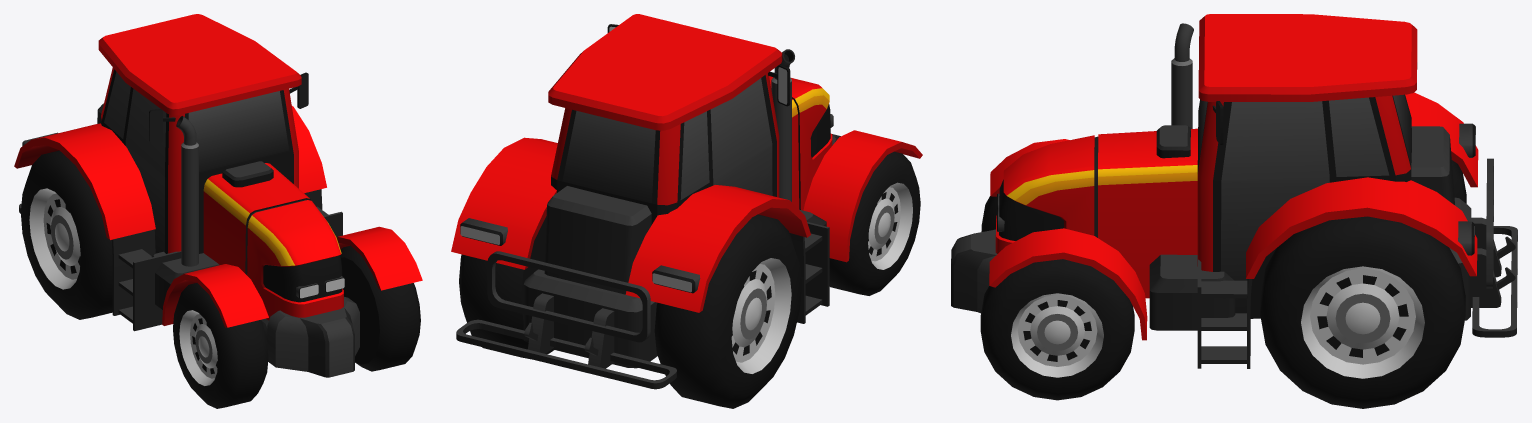
Rendered from Tractor.fbx.
The picture shows the model from 3 angles, left to right: view 1: azimuth 30°, elevation 25°; view 2: azimuth 150°, elevation 25°; view 3: azimuth 270°, elevation 25°; orthographic projection. The views are drawn at different scales.
Parts seen in each view (by area): view 1: Tractor_Body, B_R, F_R, F_L; view 2: Tractor_Body, B_R, F_R, B_L; view 3: Tractor_Body, B_L, F_L.
Part boxes in pixels (x1,y1,x2,y2): Tractor_Body: (14, 14, 422, 377); B_R: (20, 150, 112, 319); F_R: (173, 283, 268, 408); F_L: (340, 245, 420, 371); Tractor_Body: (451, 14, 922, 389); B_R: (654, 214, 801, 408); F_R: (829, 151, 920, 295); B_L: (459, 216, 553, 359); Tractor_Body: (951, 14, 1517, 368); B_L: (1260, 216, 1465, 408); F_L: (980, 259, 1134, 400).
Bounding box in the file's own units: 223 × 231 × 398.
